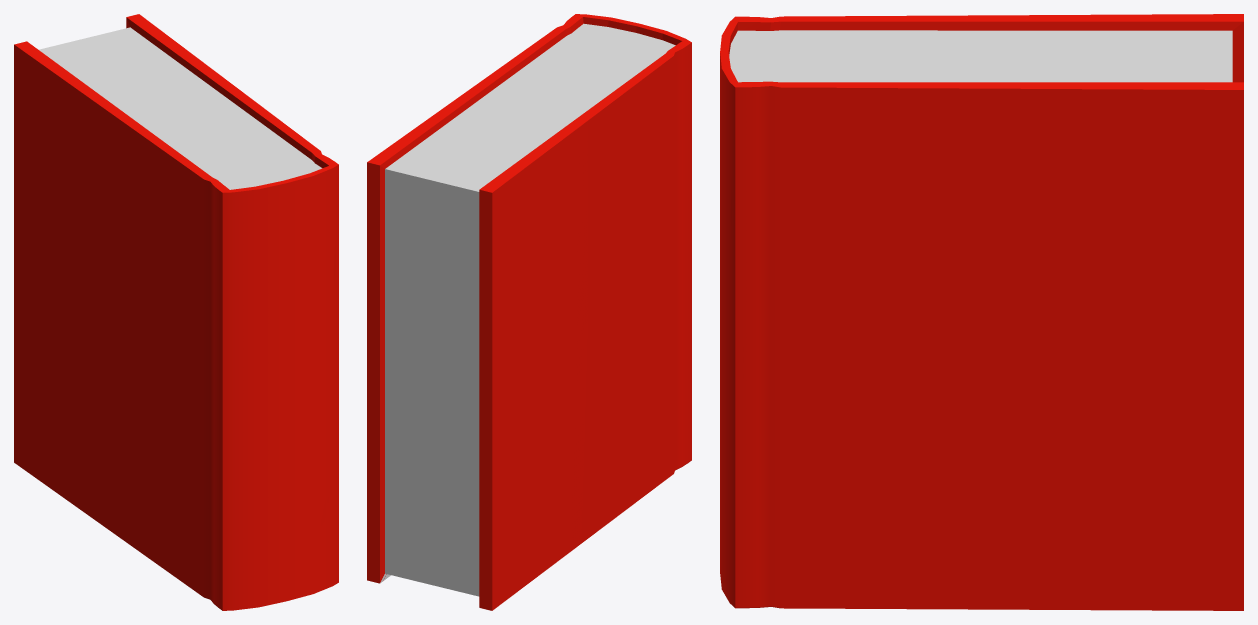
The model's file is Book_Fat 2mats.fbx.
The picture shows the model from 3 angles, left to right: view 1: azimuth 30°, elevation 25°; view 2: azimuth 150°, elevation 25°; view 3: azimuth 270°, elevation 25°; orthographic projection. The views are drawn at different scales.
Parts seen in each view (by area): view 1: book1; view 2: book1; view 3: book1.
Boxes of the visible parts, <box> form: book1: <box>14,14,338,610</box>; book1: <box>367,14,691,610</box>; book1: <box>720,14,1243,610</box>.
Size of the model in its own units: 110 by 350 by 319.
